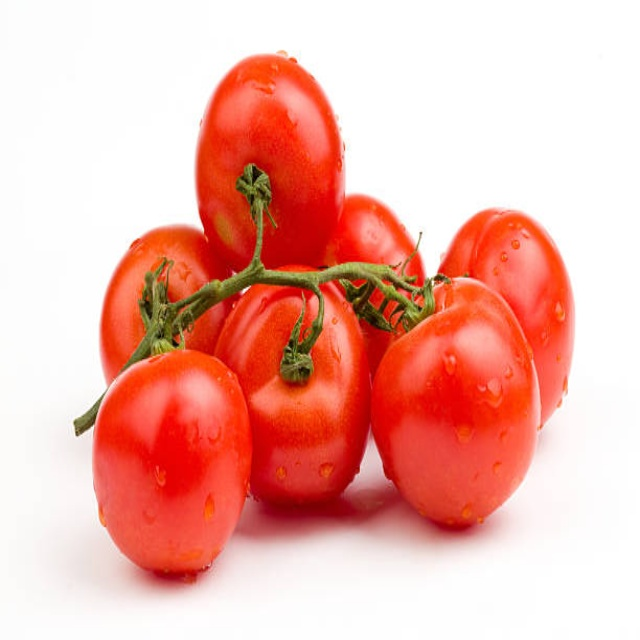tomato: (70, 357, 257, 596), (380, 269, 543, 526), (211, 277, 367, 509), (183, 54, 347, 270), (441, 207, 575, 407), (96, 222, 236, 394), (302, 199, 425, 357)
